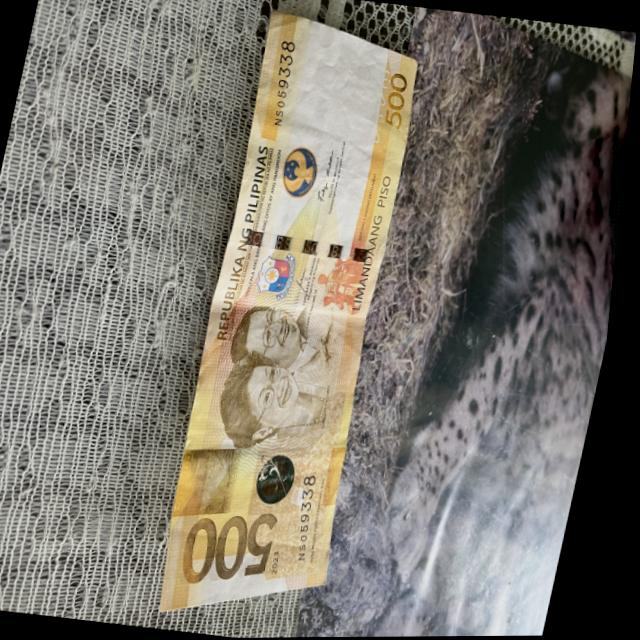concealed_value: (178, 440, 253, 523)
optically_variable_device: (255, 443, 314, 519)
security_thread: (238, 229, 388, 265)
see_through_mark: (368, 68, 395, 147)
serial_number: (290, 453, 339, 574), (264, 37, 301, 128)
value: (187, 502, 291, 594)
value_watermark: (344, 60, 378, 84)
